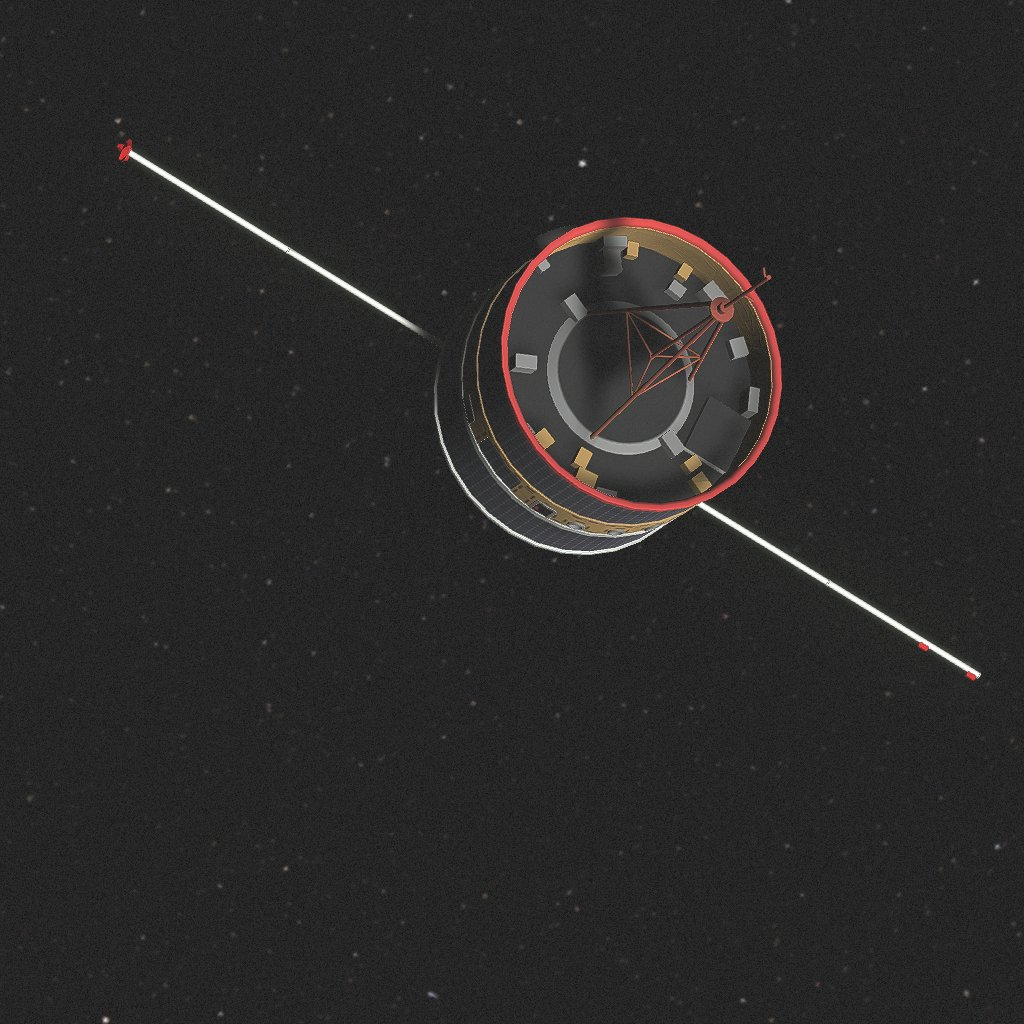double_star: (116, 139, 981, 681)
